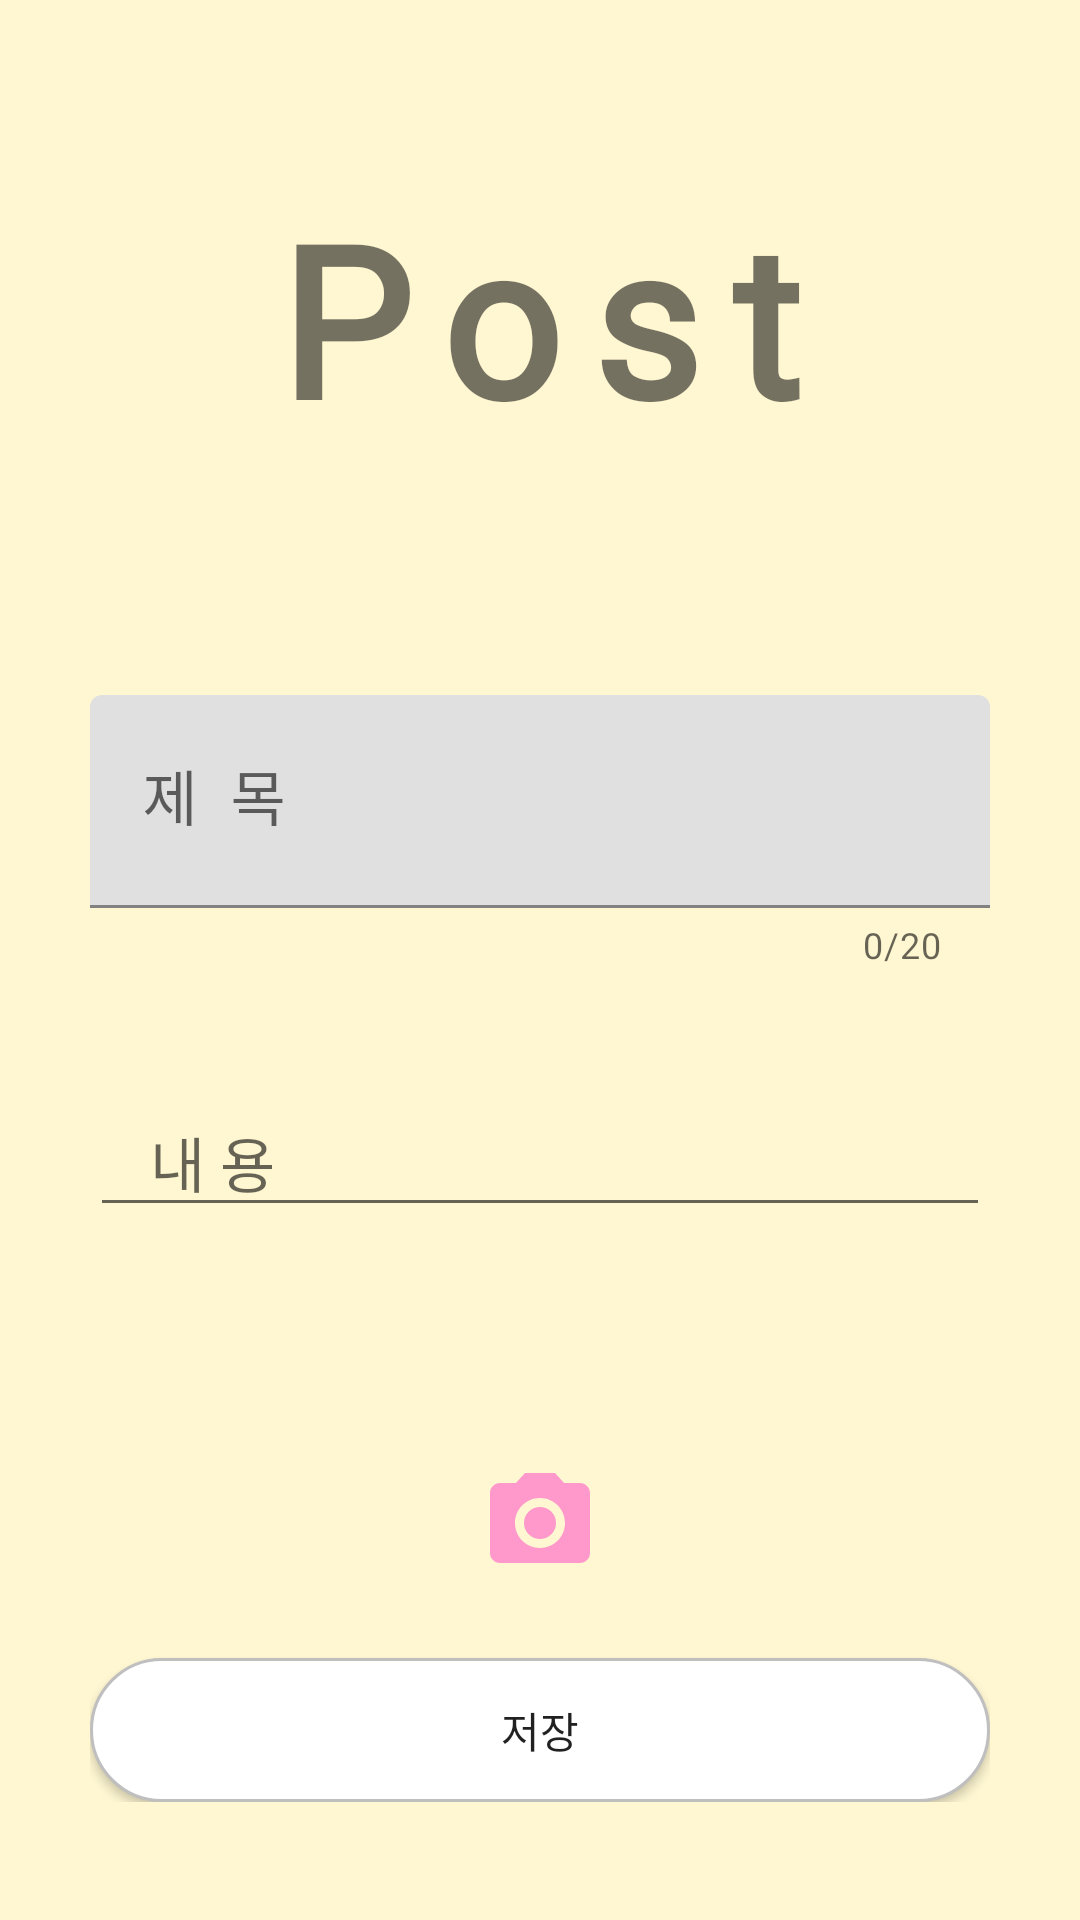

Icons on this 1080w x 1920h Android screen, each with its box as (x1, y1, x2, y2):
camera: (490, 1473, 590, 1563)
